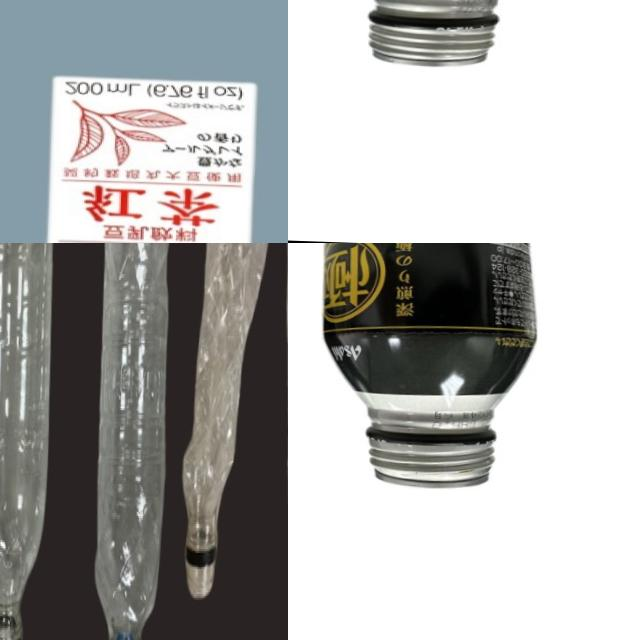Aluminium Foil: (32, 68, 260, 243)
Can: (304, 243, 540, 497), (307, 0, 568, 77)
Transparent Plastic Bottle: (85, 243, 174, 640), (177, 243, 273, 609), (0, 243, 59, 640)
